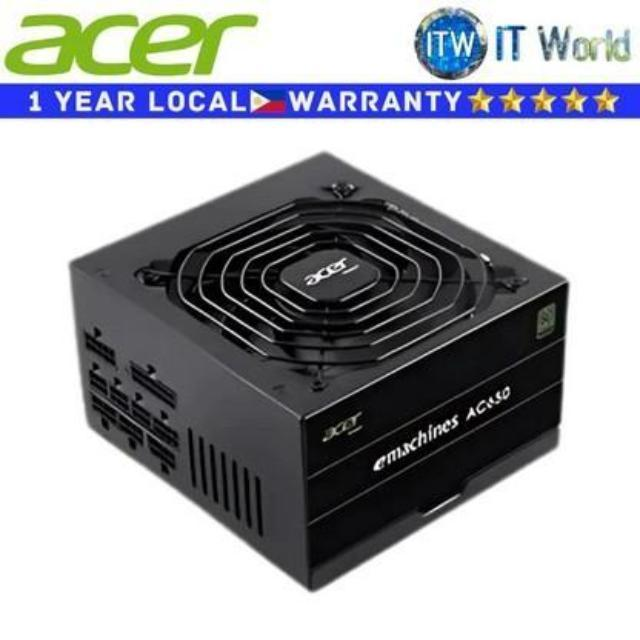PSU: (57, 138, 586, 610)
